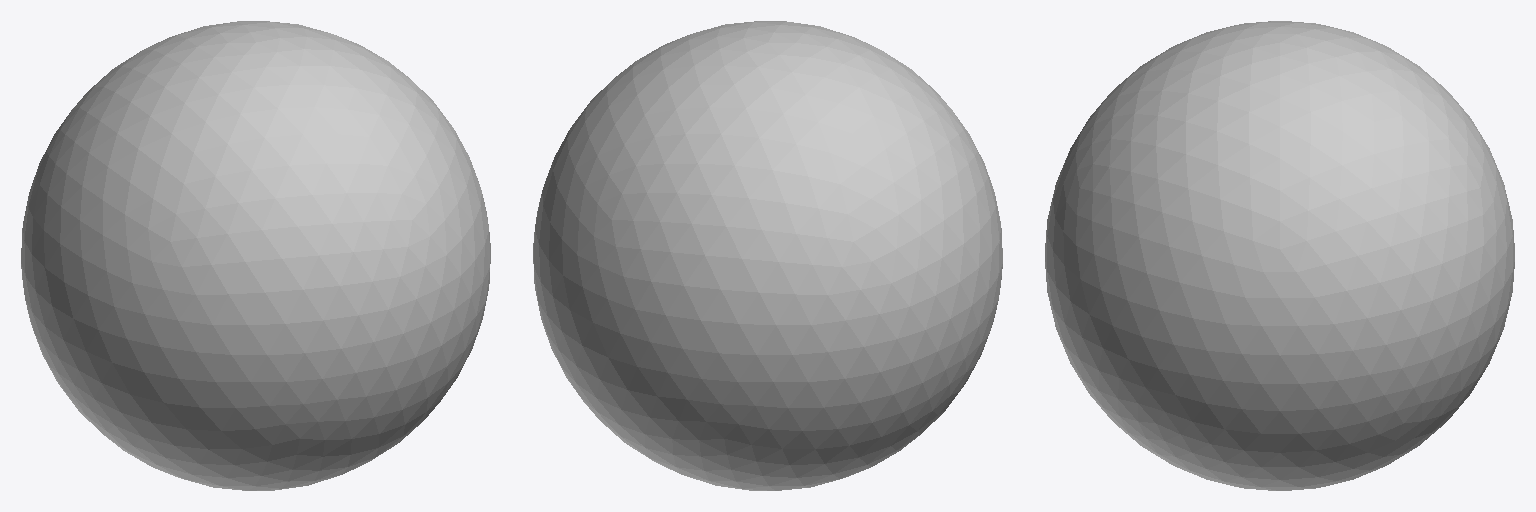
File: ico4.obj
The picture shows the model from 3 angles: view 1: azimuth 30°, elevation 25°; view 2: azimuth 150°, elevation 25°; view 3: azimuth 270°, elevation 25°; orthographic projection.
Parts seen in each view (by area): view 1: Icosphere_Icosphere.001; view 2: Icosphere_Icosphere.001; view 3: Icosphere_Icosphere.001.
Part boxes in pixels (bbox=[...]): Icosphere_Icosphere.001: bbox=[21, 21, 490, 490]; Icosphere_Icosphere.001: bbox=[533, 21, 1002, 490]; Icosphere_Icosphere.001: bbox=[1045, 21, 1514, 490].
Size of the model in its own units: 2 by 2 by 2.